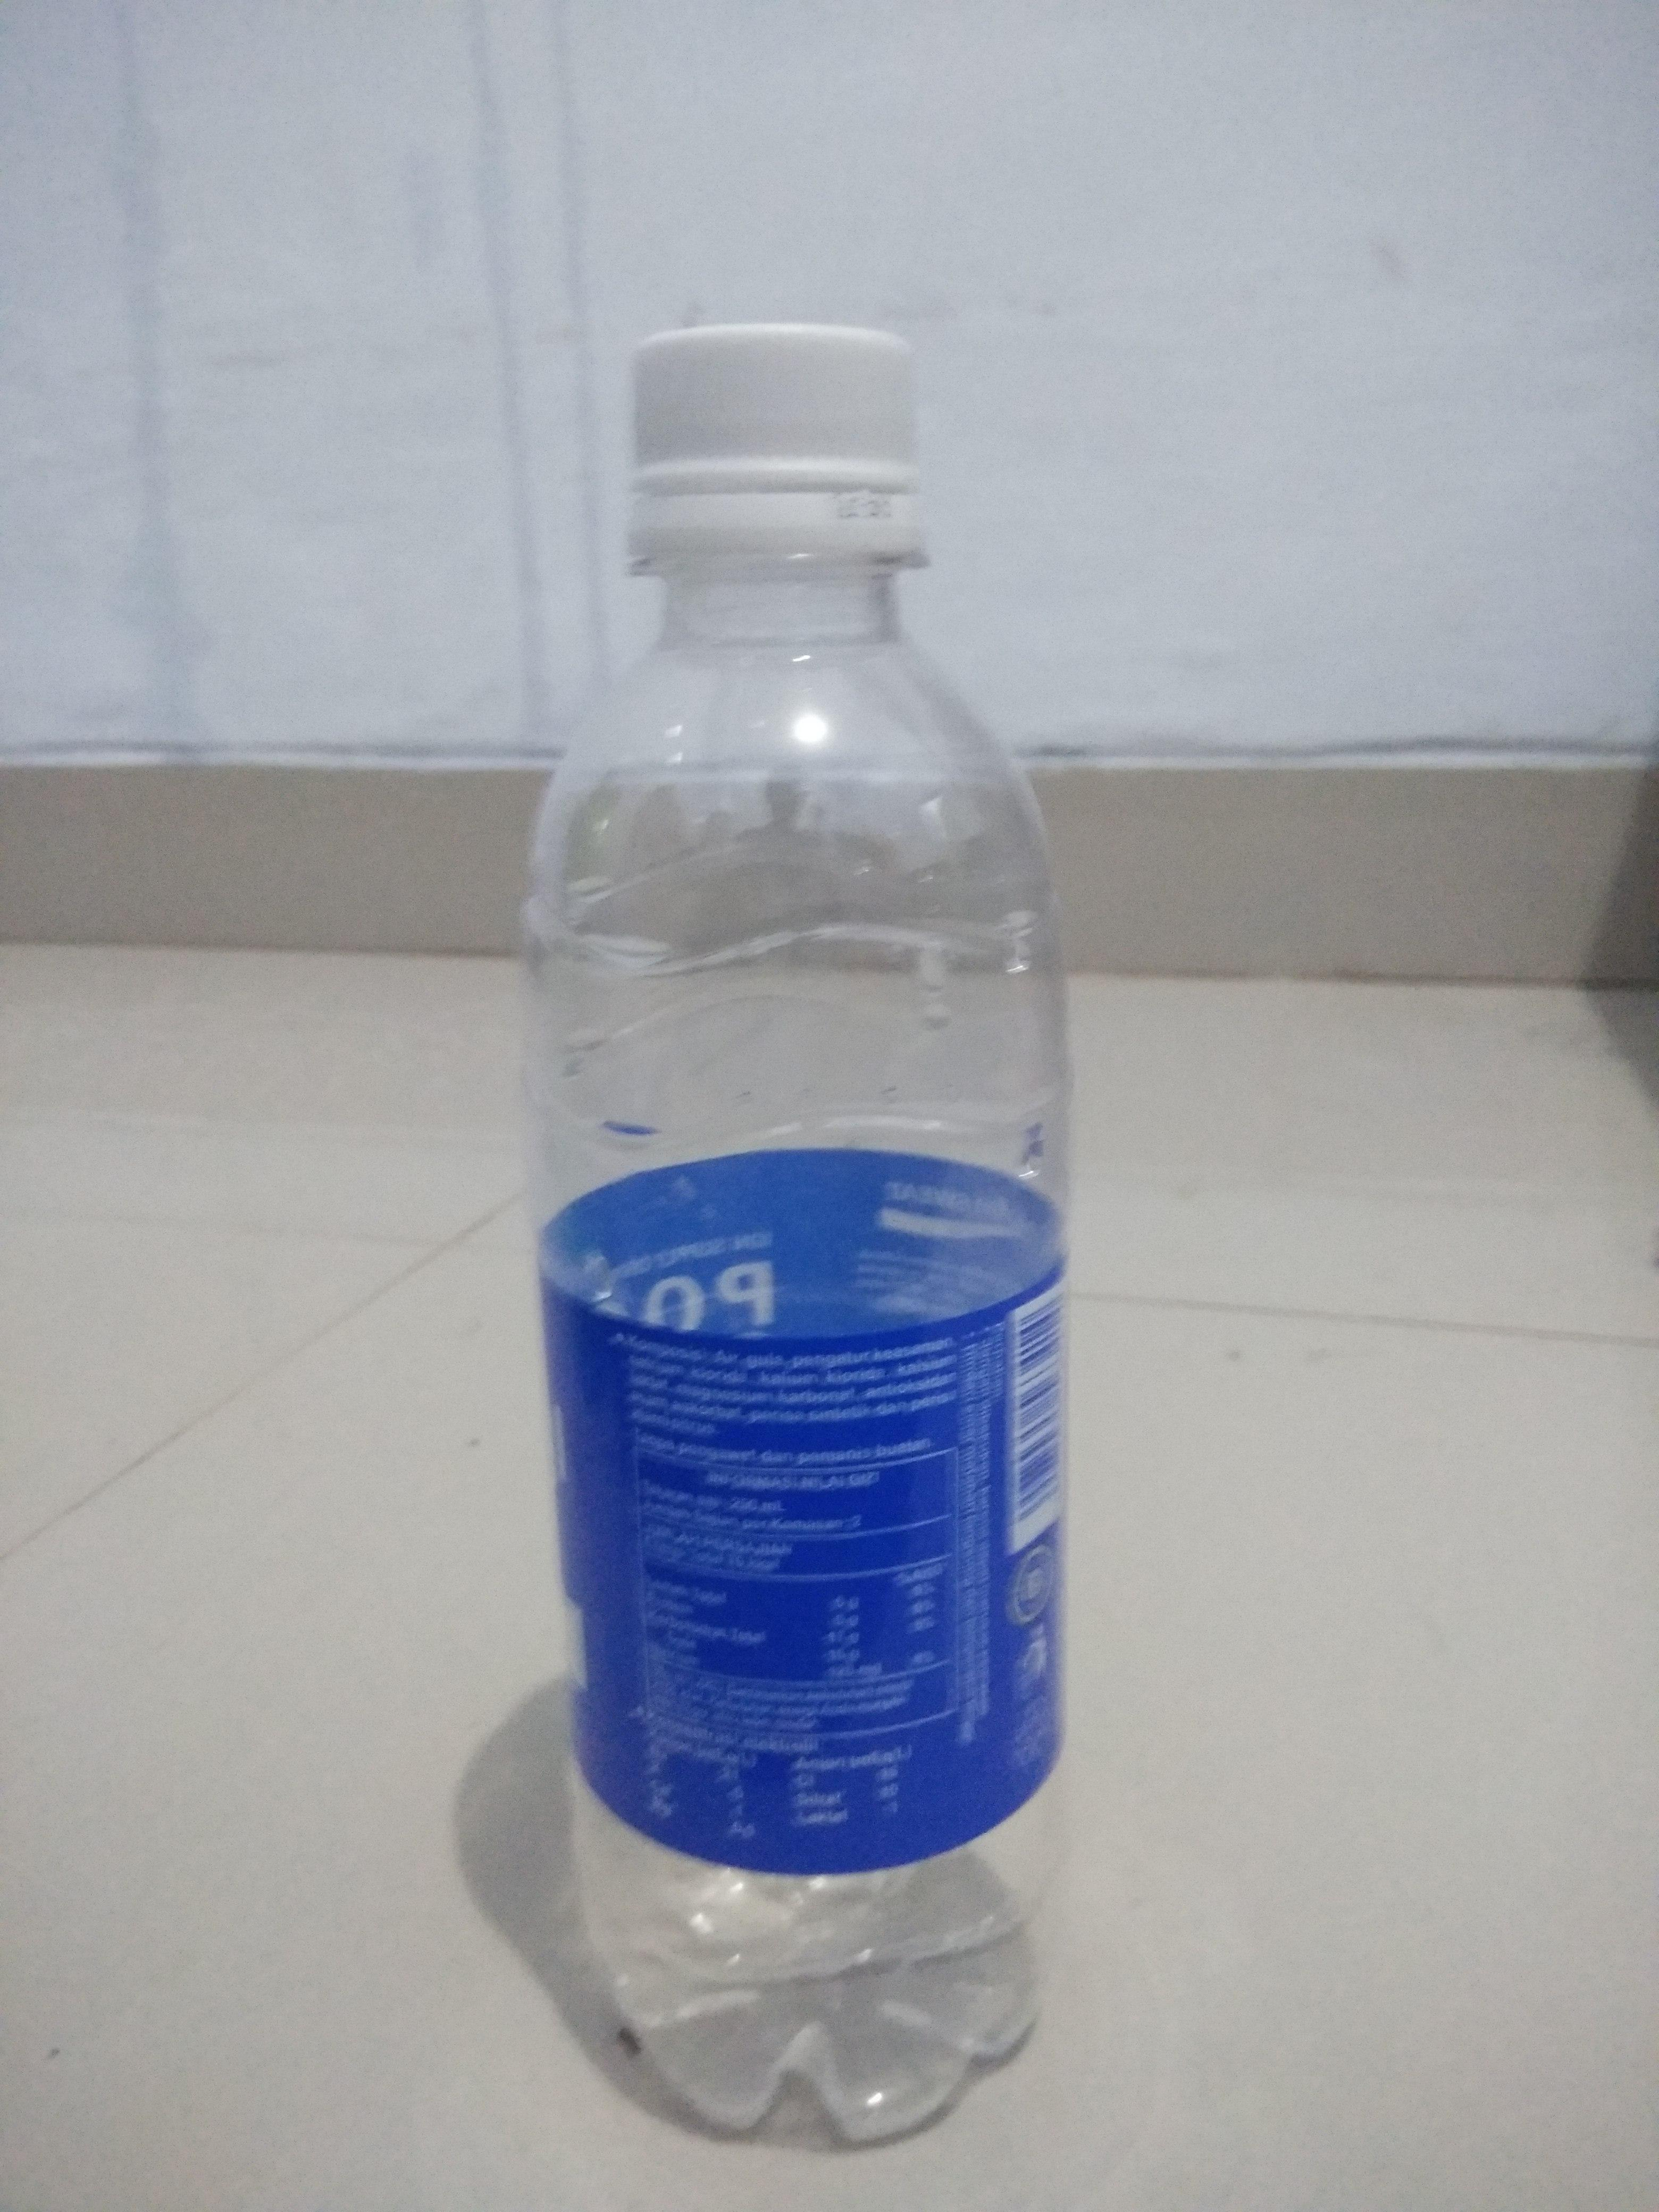HDPE: (523, 240, 1018, 563)
PETE: (416, 577, 1248, 2198)
